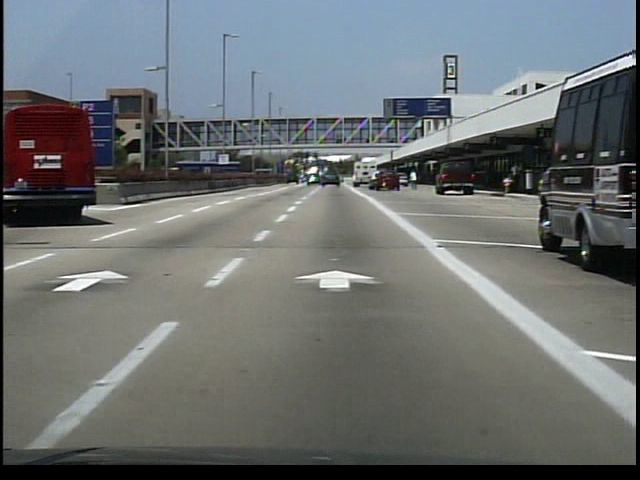person: (509, 162, 523, 197), (409, 168, 423, 191)
